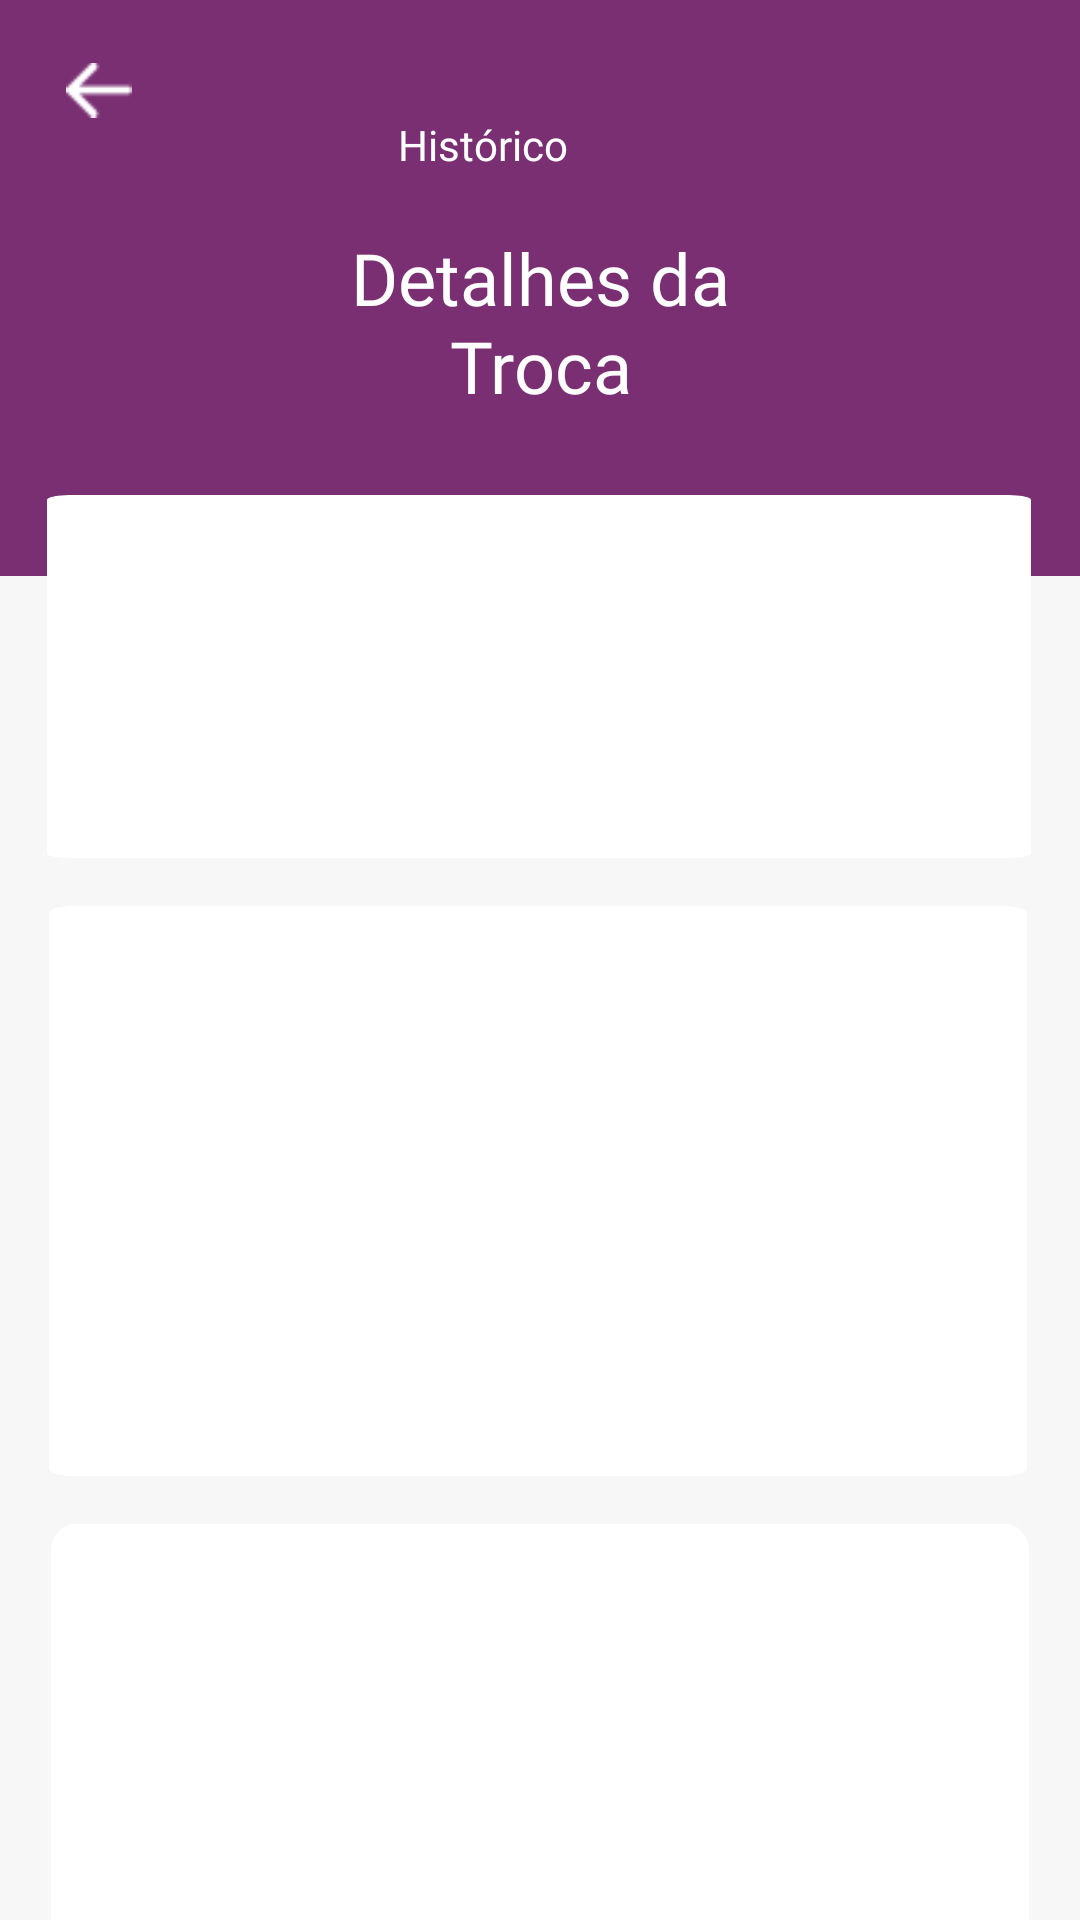

Icon bounding boxes for this 1080px×1920px phone screenshot, format (x1, y1, x2, y2):
vector back Arrow: (66, 63, 132, 118)
